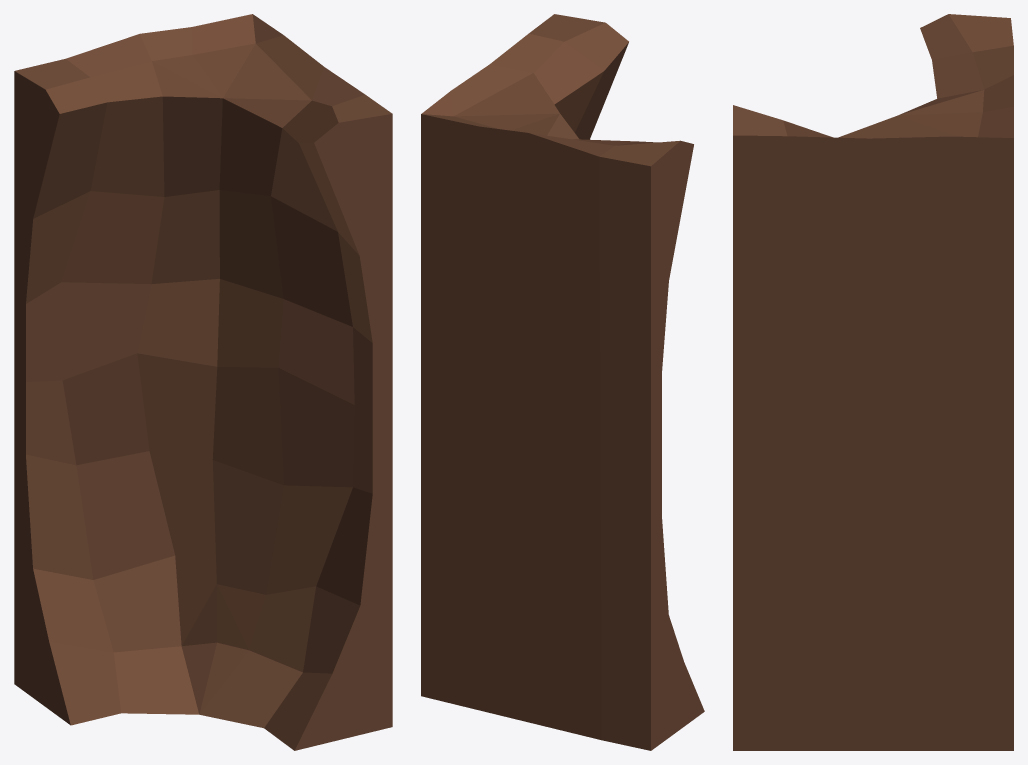
The model's file is CaveWallRoundSmallHigh.fbx.
The picture shows the model from 3 angles, left to right: view 1: azimuth 30°, elevation 25°; view 2: azimuth 150°, elevation 25°; view 3: azimuth 270°, elevation 25°; orthographic projection. The views are drawn at different scales.
Parts seen in each view (by area): view 1: CaveWallRoundSmallHigh; view 2: CaveWallRoundSmallHigh; view 3: CaveWallRoundSmallHigh.
Part boxes in pixels (left/top/right/bottom): CaveWallRoundSmallHigh: left=14, top=14, right=392, bottom=750; CaveWallRoundSmallHigh: left=421, top=14, right=704, bottom=750; CaveWallRoundSmallHigh: left=733, top=14, right=1013, bottom=750.
Size of the model in its own units: 286 by 706 by 289.
1 material, 1 textured.
